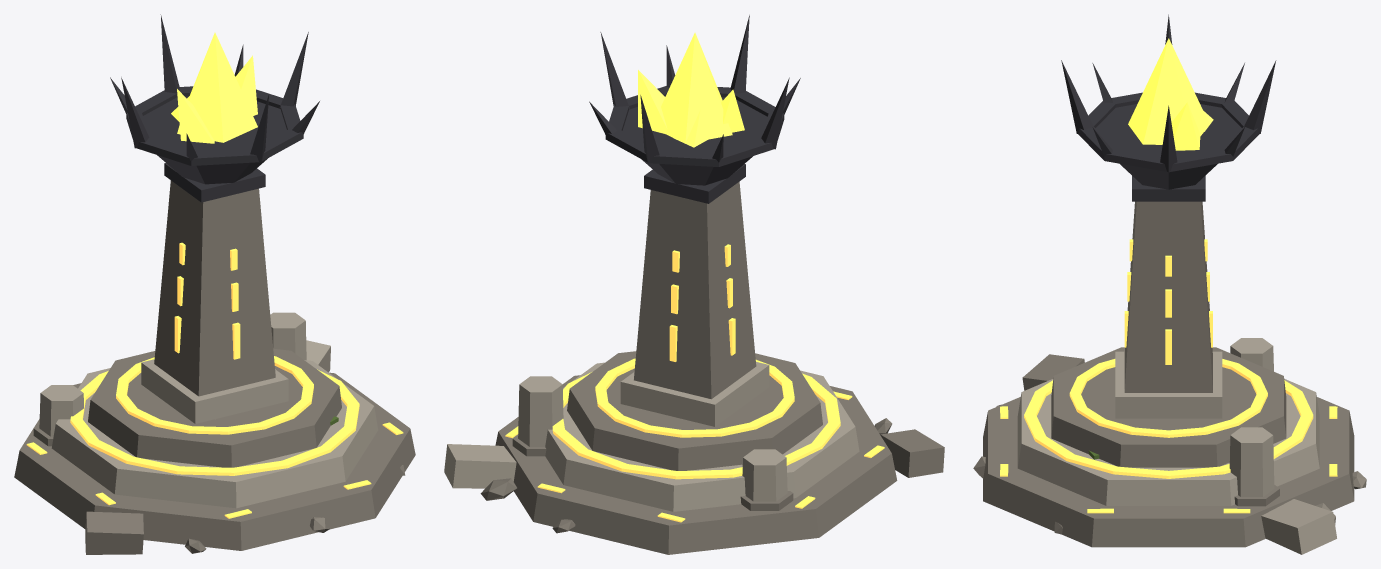
File: Shrine_Fire.fbx
The picture shows the model from 3 angles, left to right: view 1: azimuth 30°, elevation 25°; view 2: azimuth 150°, elevation 25°; view 3: azimuth 270°, elevation 25°; orthographic projection.
Visible parts, largest first — view 1: Shrine_Fire; view 2: Shrine_Fire; view 3: Shrine_Fire.
Boxes of the visible parts, bbox=[...] form: Shrine_Fire: bbox=[14, 14, 415, 554]; Shrine_Fire: bbox=[444, 15, 944, 554]; Shrine_Fire: bbox=[973, 14, 1366, 554].
Size of the model in its own units: 3.16 by 3.55 by 2.94.
